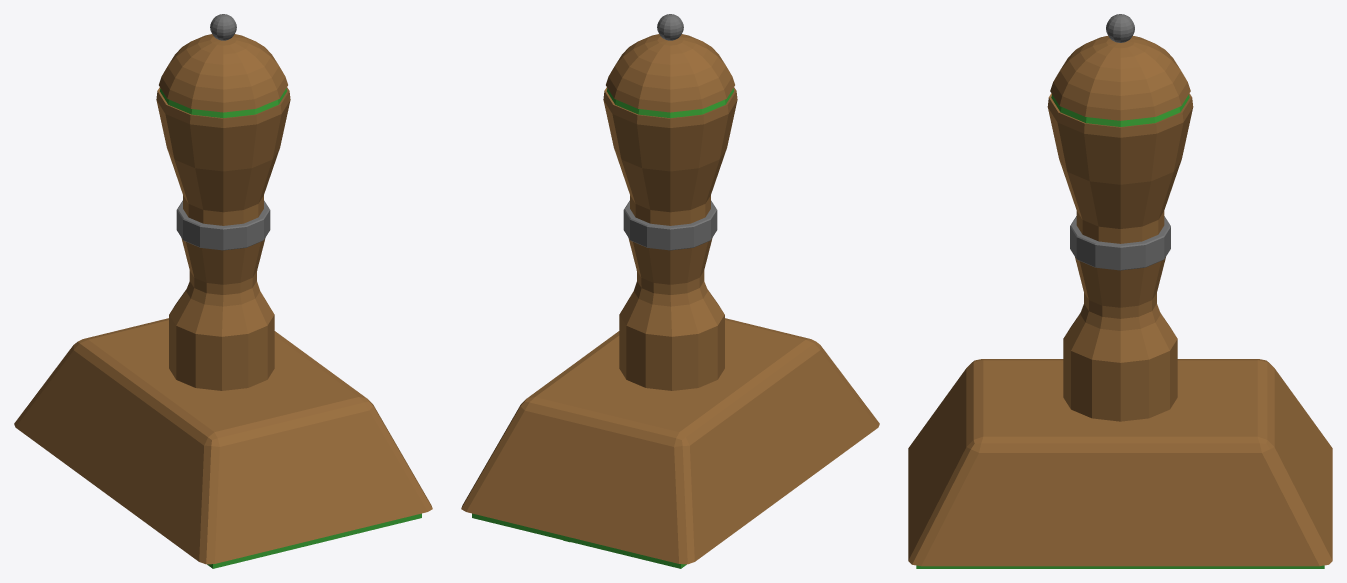
File: Stempel_A_Final.fbx
3 renders of one model, left to right at view 1: azimuth 30°, elevation 25°; view 2: azimuth 150°, elevation 25°; view 3: azimuth 270°, elevation 25°, orthographic. The views are drawn at different scales.
Visible parts, largest first — view 1: Cube.004; view 2: Cube.004; view 3: Cube.004.
Part boxes in pixels (box(x1,y1,x2,y2)): Cube.004: box(14, 14, 432, 568); Cube.004: box(461, 14, 879, 568); Cube.004: box(908, 14, 1332, 568).
Bounding box in the file's own units: 11.69 × 22.24 × 17.05.
